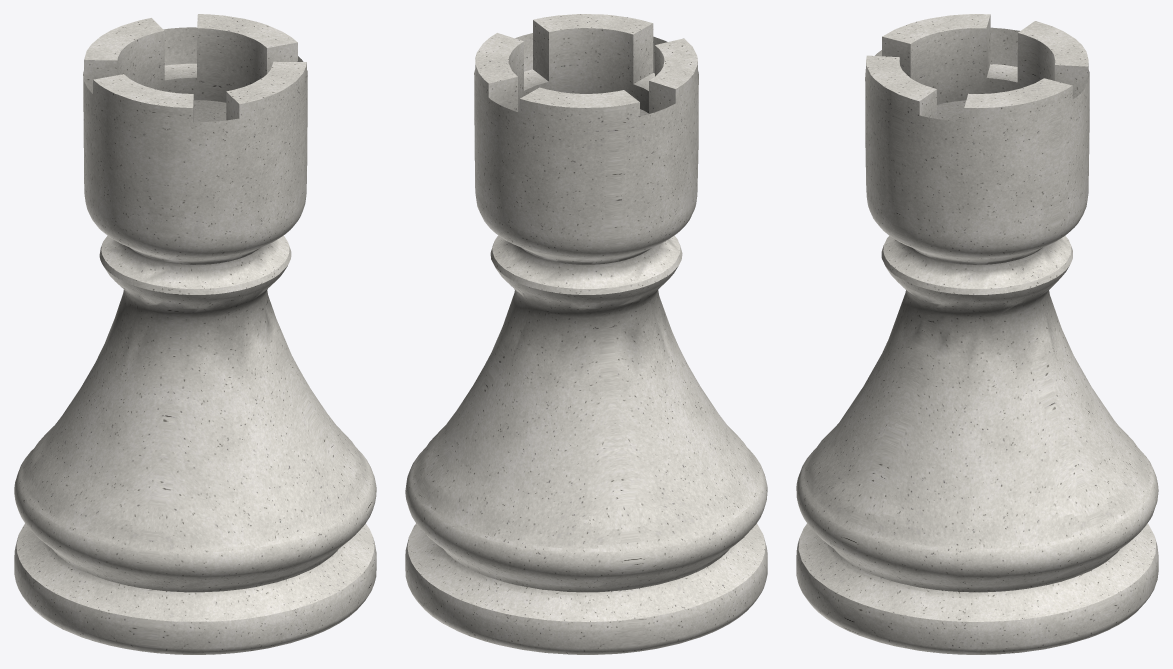
Rendered from rook-white.glb.
3 renders of one model, left to right at view 1: azimuth 30°, elevation 25°; view 2: azimuth 150°, elevation 25°; view 3: azimuth 270°, elevation 25°, orthographic.
Parts seen in each view (by area): view 1: vez_bila; view 2: vez_bila; view 3: vez_bila.
Part boxes in pixels (bbox=[...]): vez_bila: bbox=[14, 14, 376, 654]; vez_bila: bbox=[405, 14, 767, 654]; vez_bila: bbox=[796, 14, 1158, 654].
Size of the model in its own units: 0.6248 by 1.01 by 0.6244.
Materials: 1 (1 with a texture image).
